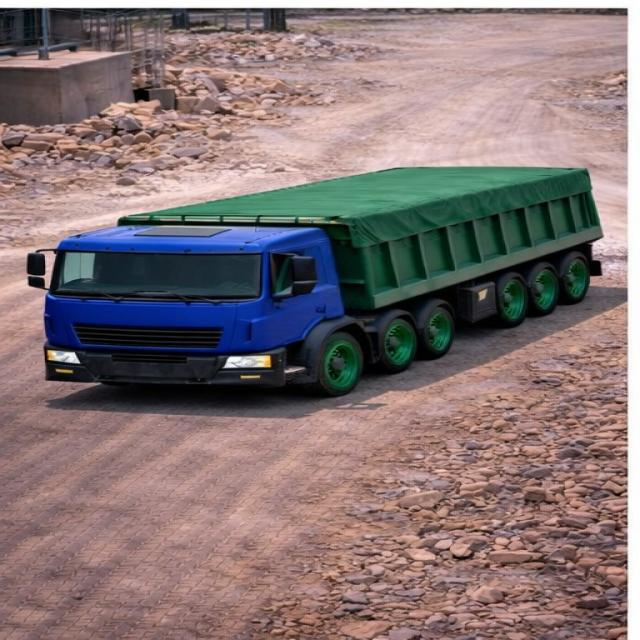Box: (124, 162, 591, 225)
Truck: (19, 150, 622, 400)
